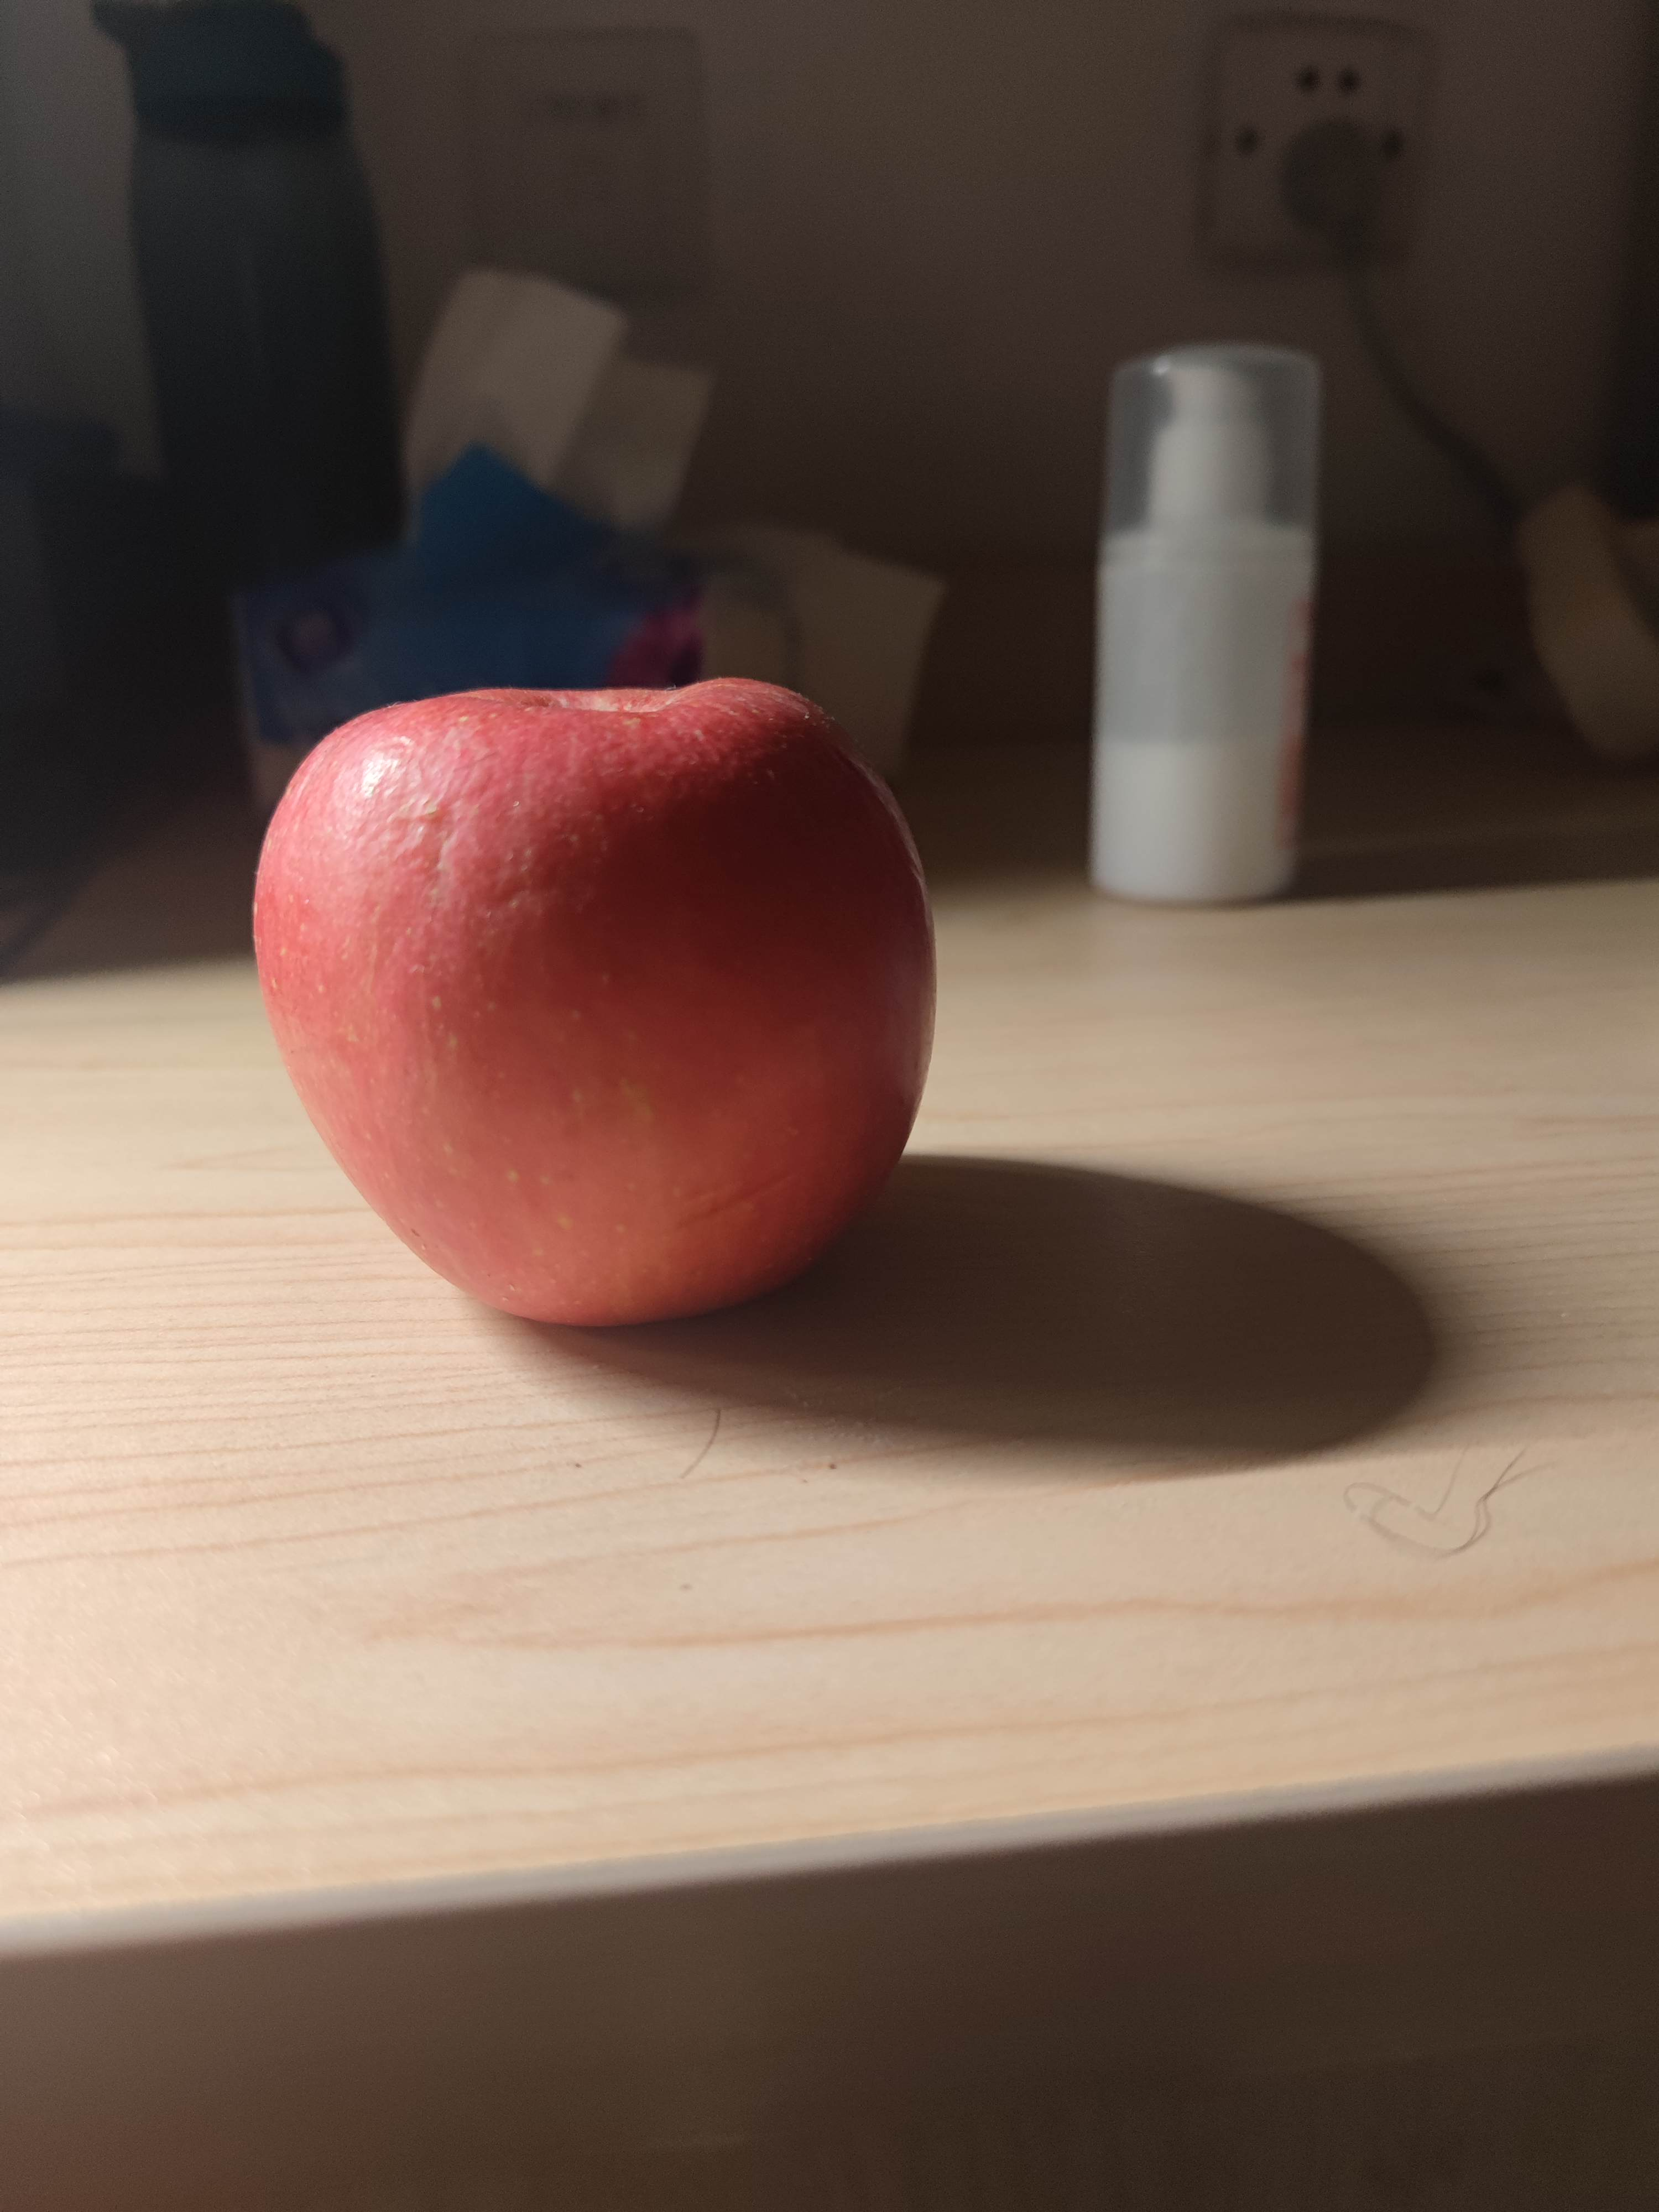apple: (256, 672, 946, 1339)
